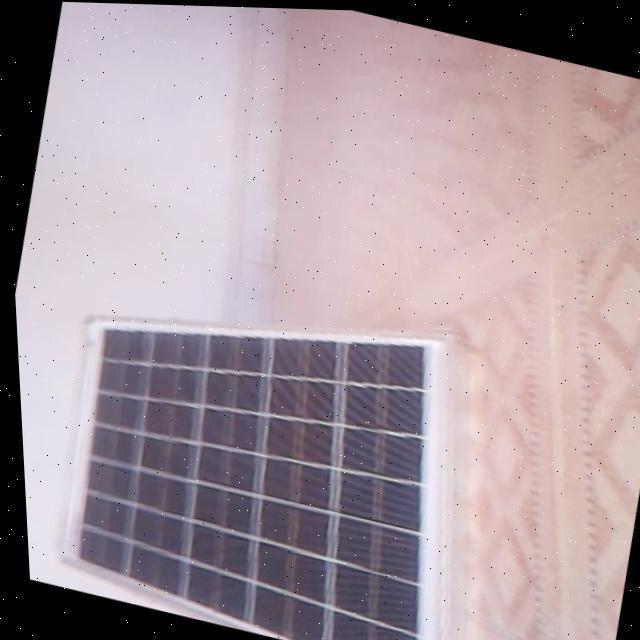Normal Solar Panel: (41, 269, 474, 640)
